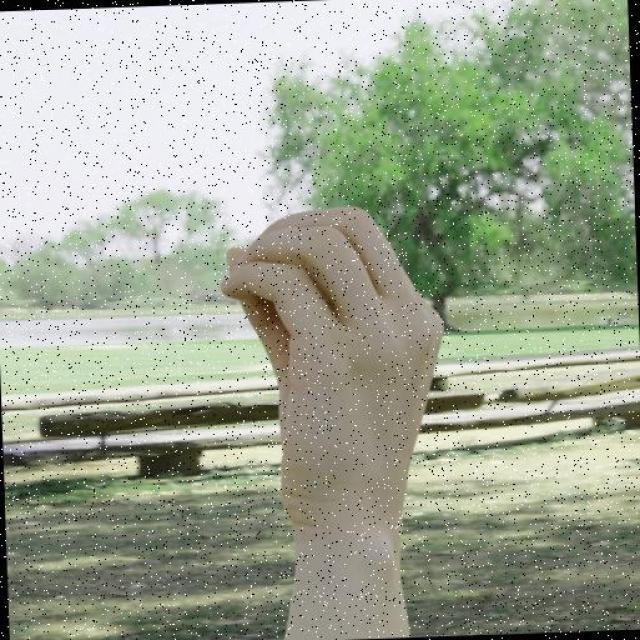O: (218, 201, 456, 530)
